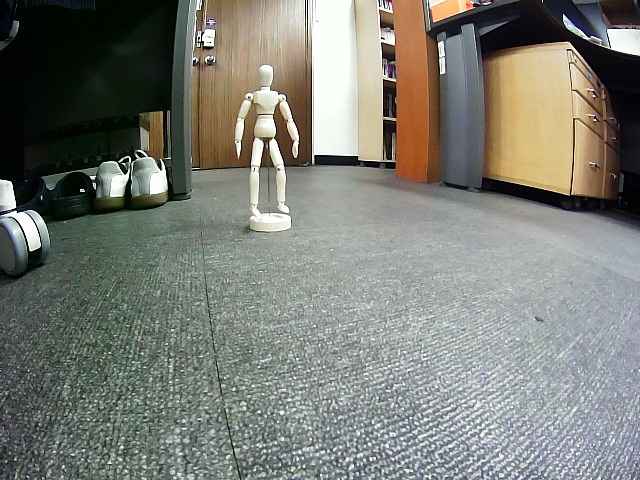person: (236, 64, 301, 216)
